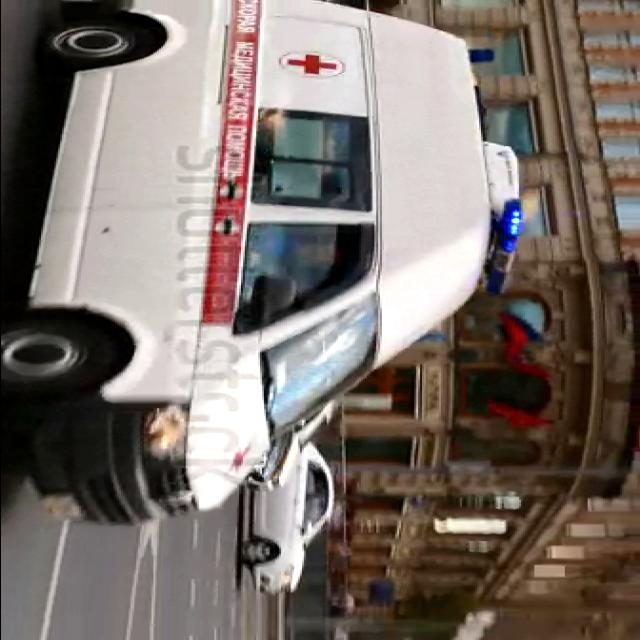ambulance: (9, 1, 522, 526)
